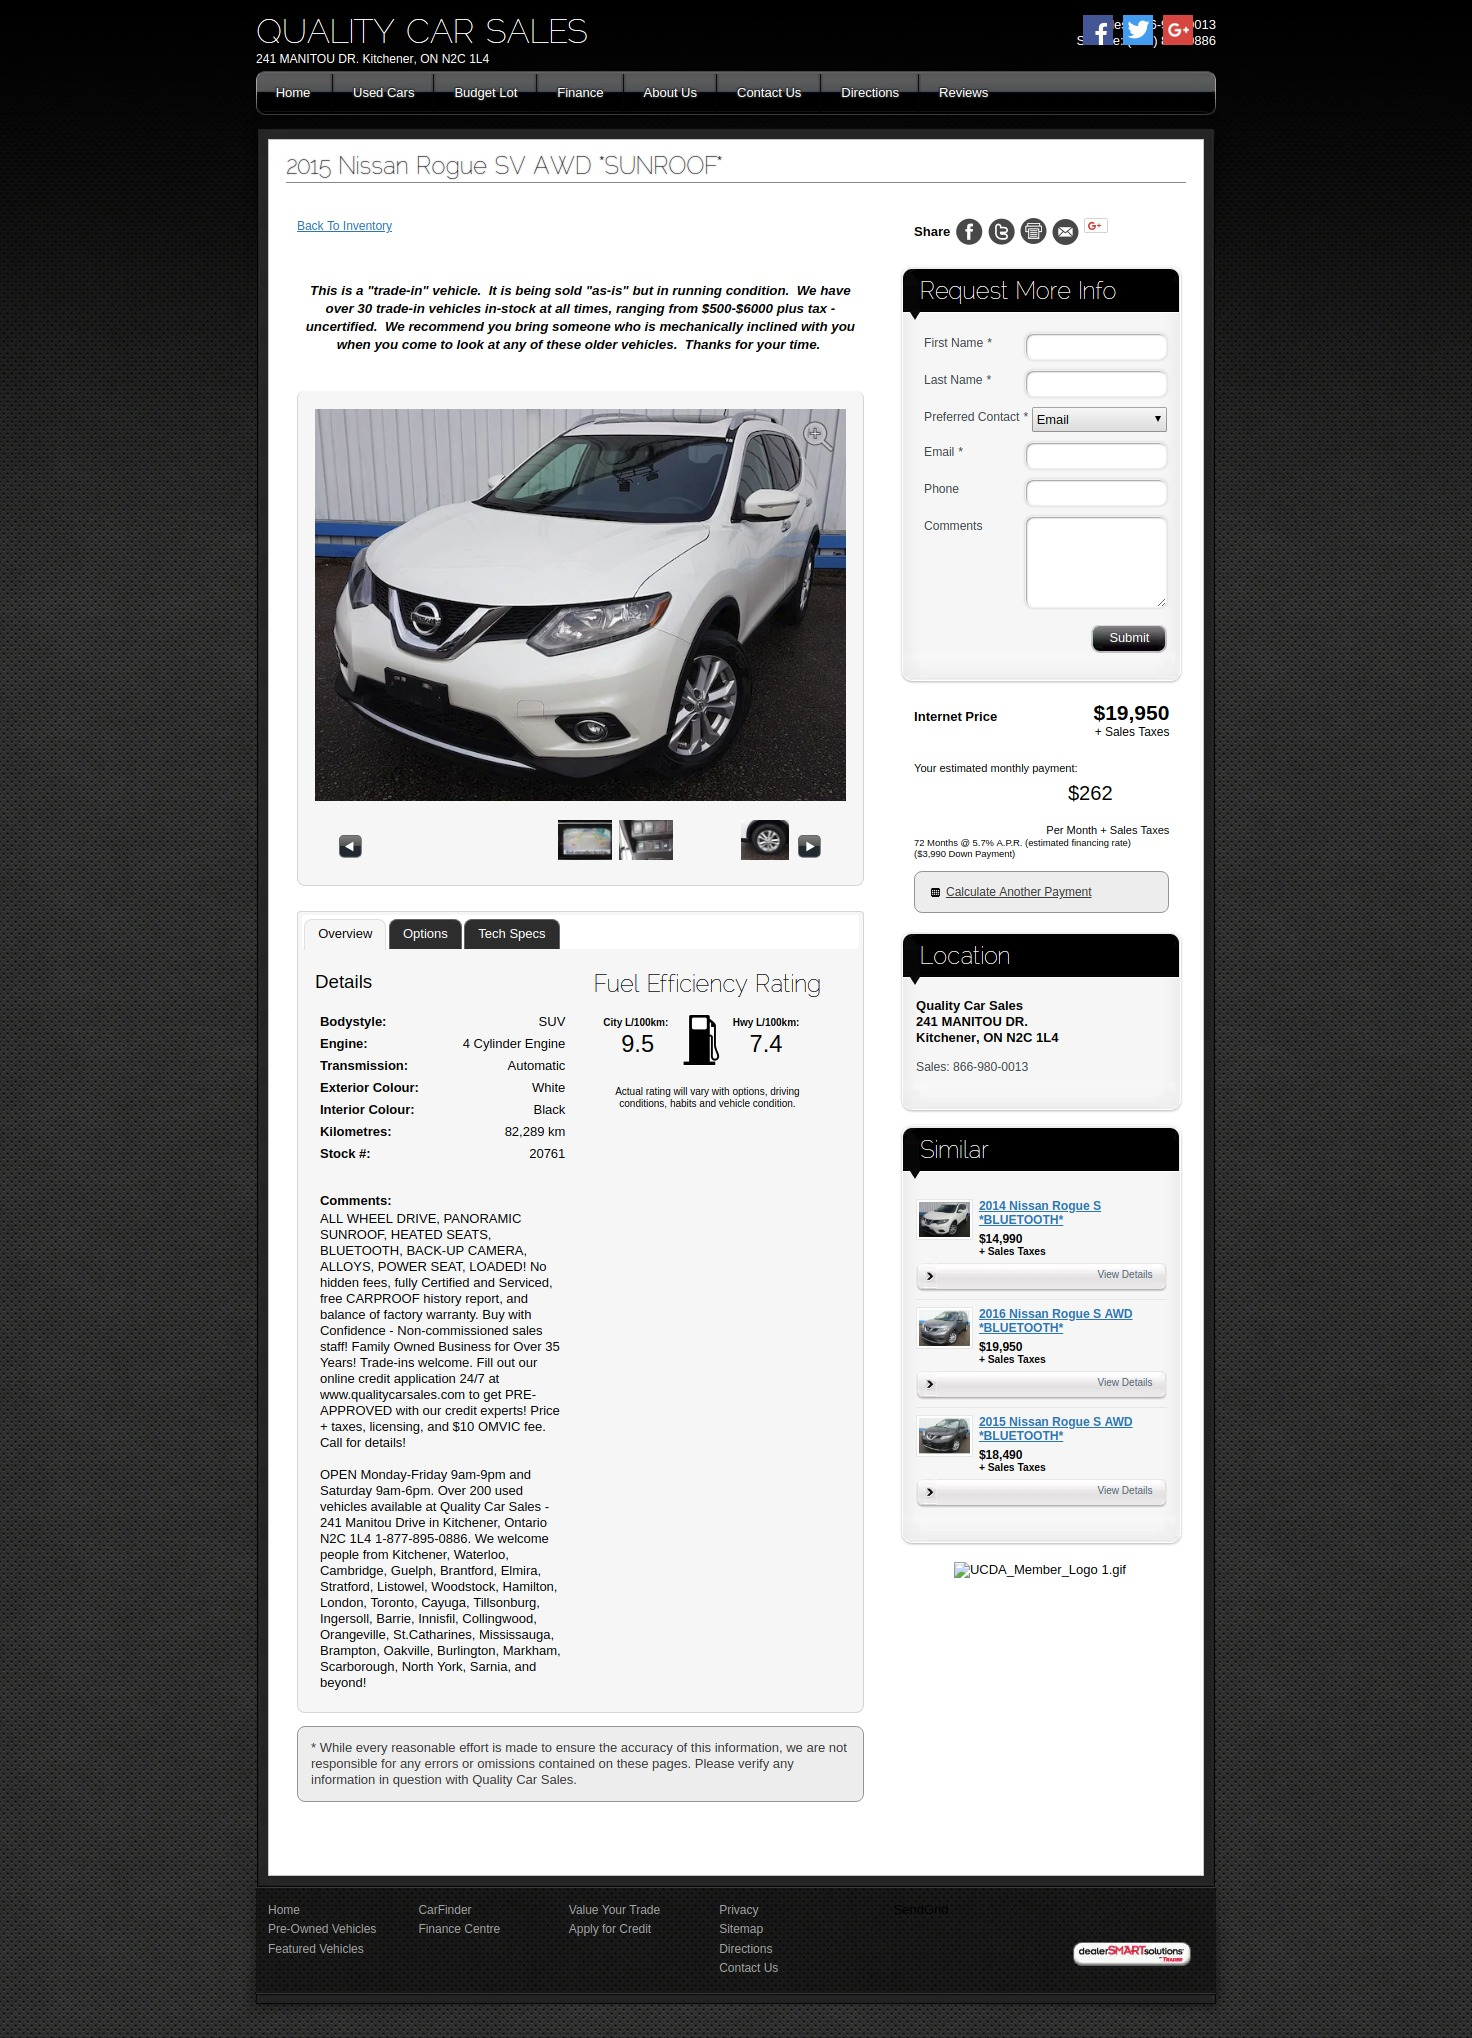car: (807, 842, 817, 851)
